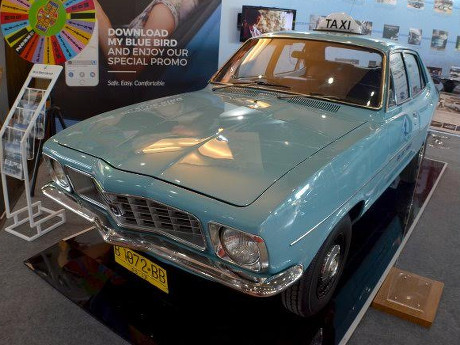plate: (105, 242, 169, 291)
